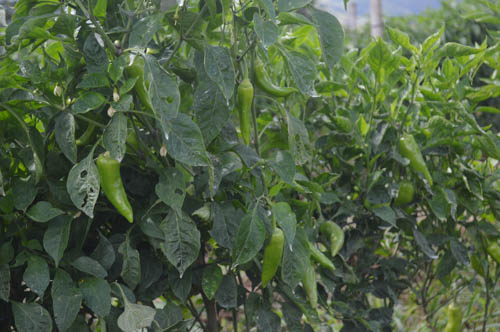ChiliPepper: (93, 159, 135, 224), (401, 137, 443, 195), (262, 232, 289, 284), (256, 62, 297, 96), (236, 85, 251, 147), (324, 219, 343, 251)
